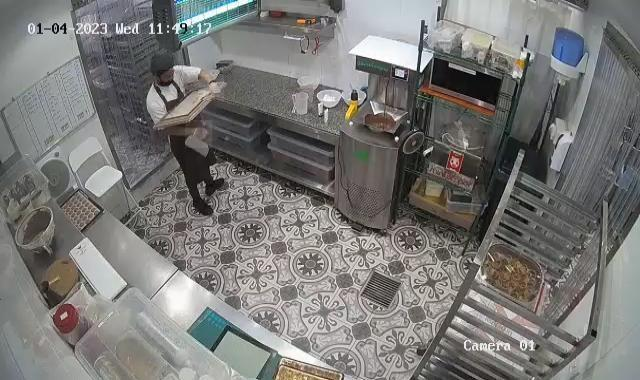apron: (186, 120, 213, 148), (199, 74, 225, 100)
gloves: (144, 41, 171, 72)
mask: (157, 71, 180, 93)
